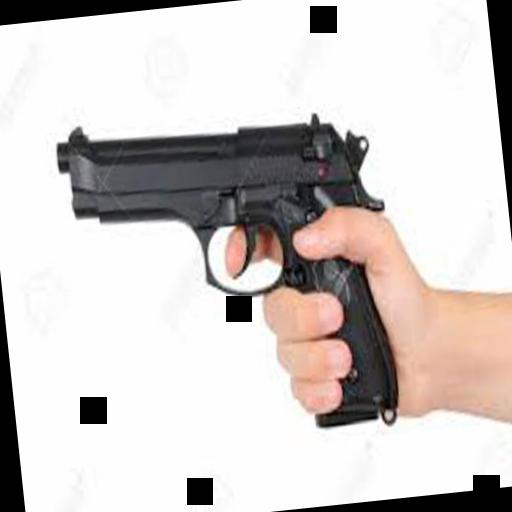Handgun: (48, 83, 408, 468)
